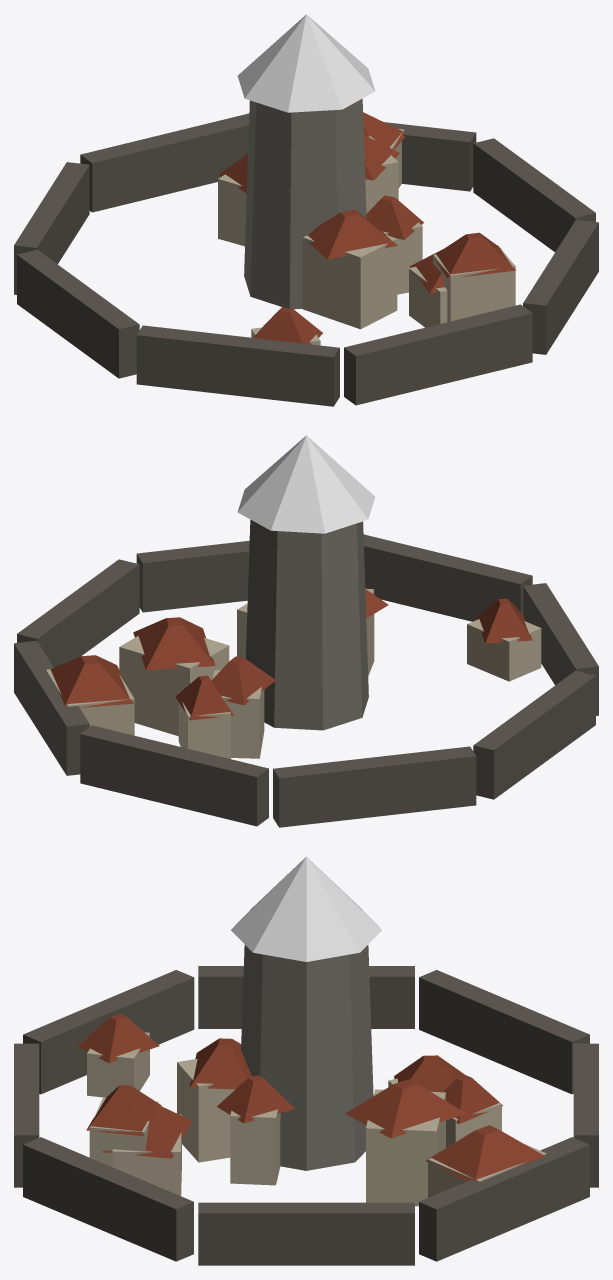
The model's file is city_1.glb.
The picture shows the model from 3 angles, top to bottom: view 1: azimuth 30°, elevation 25°; view 2: azimuth 150°, elevation 25°; view 3: azimuth 270°, elevation 25°; orthographic projection. The views are drawn at different scales.
Visible parts, largest first — view 1: city_1; view 2: city_1; view 3: city_1.
Part boxes in pixels (<box>): city_1: <box>14,14,598,406</box>; city_1: <box>14,435,598,827</box>; city_1: <box>14,856,598,1265</box>.
Size of the model in its own units: 3.24 by 1.75 by 3.24.
